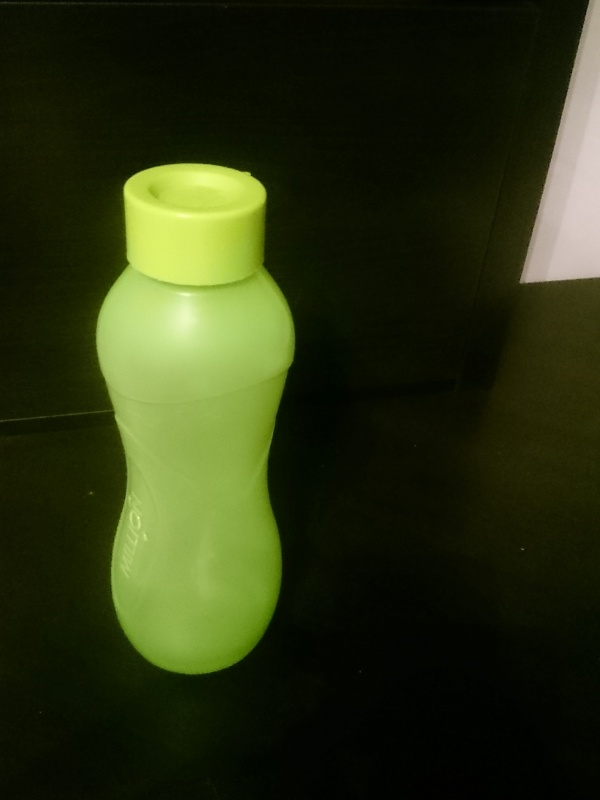my bottle: (94, 164, 294, 677)
